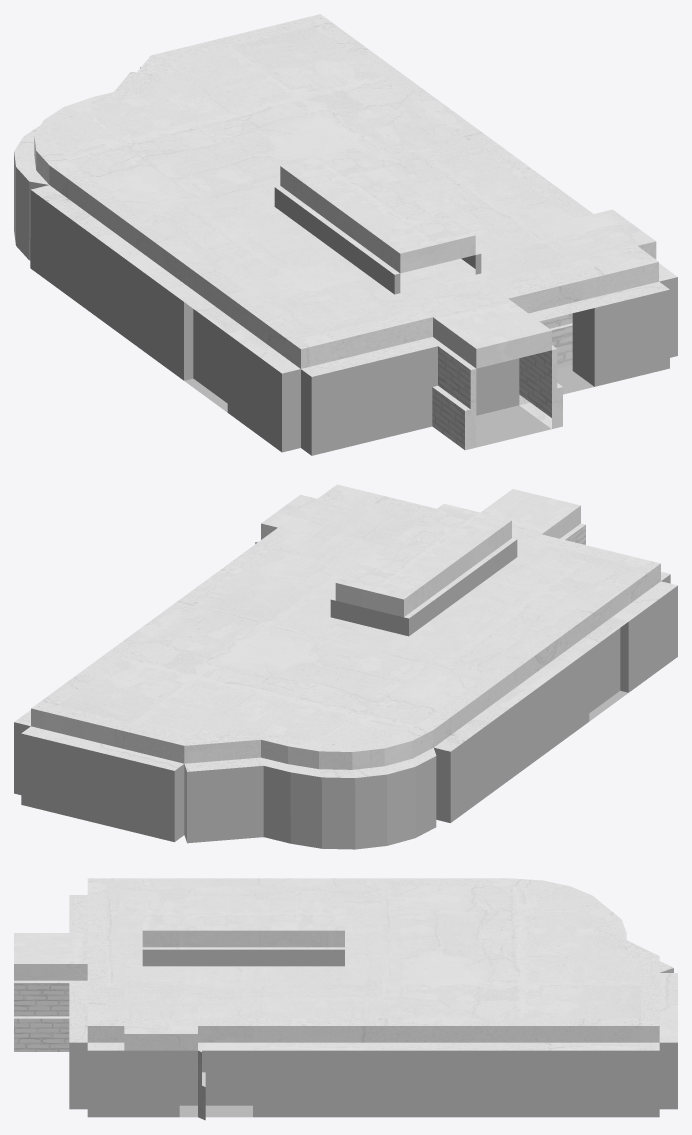
The model's file is Projekt_Gra.fbx.
The picture shows the model from 3 angles, top to bottom: view 1: azimuth 30°, elevation 25°; view 2: azimuth 150°, elevation 25°; view 3: azimuth 270°, elevation 25°; orthographic projection. The views are drawn at different scales.
Visible parts, largest first — view 1: DużyPokój, PokójDwaDrzwi, PokójCzteryDrzwi, Korytarz, KorytarzGóraDół, KorytarzZakręt, SpawnExit, KorytarzZakrętMini; view 2: DużyPokój, PokójDwaDrzwi, PokójCzteryDrzwi, KorytarzGóraDół, Korytarz, KorytarzZakręt, KorytarzMini; view 3: DużyPokój, PokójDwaDrzwi, KorytarzGóraDół, PokójCzteryDrzwi, Korytarz, KorytarzZakręt.
Boxes of the visible parts, <box> form: DużyPokój: <box>14,14,677,455</box>; PokójDwaDrzwi: <box>115,131,628,403</box>; PokójCzteryDrzwi: <box>135,136,609,374</box>; Korytarz: <box>239,155,562,450</box>; KorytarzGóraDół: <box>274,147,481,294</box>; KorytarzZakręt: <box>400,209,656,368</box>; SpawnExit: <box>224,173,520,297</box>; KorytarzZakrętMini: <box>400,226,575,367</box>; DużyPokój: <box>14,484,677,849</box>; PokójDwaDrzwi: <box>187,496,658,712</box>; PokójCzteryDrzwi: <box>226,500,631,675</box>; KorytarzGóraDół: <box>330,503,517,636</box>; Korytarz: <box>315,489,585,663</box>; KorytarzZakręt: <box>255,494,520,550</box>; KorytarzMini: <box>317,618,374,640</box>; DużyPokój: <box>69,878,677,1117</box>; PokójDwaDrzwi: <box>106,878,400,1105</box>; KorytarzGóraDół: <box>142,899,344,966</box>; PokójCzteryDrzwi: <box>106,886,400,1010</box>; Korytarz: <box>14,933,418,1051</box>; KorytarzZakręt: <box>120,1026,205,1120</box>.
Bounding box in the file's own units: 21.42 × 9 × 36.1.
